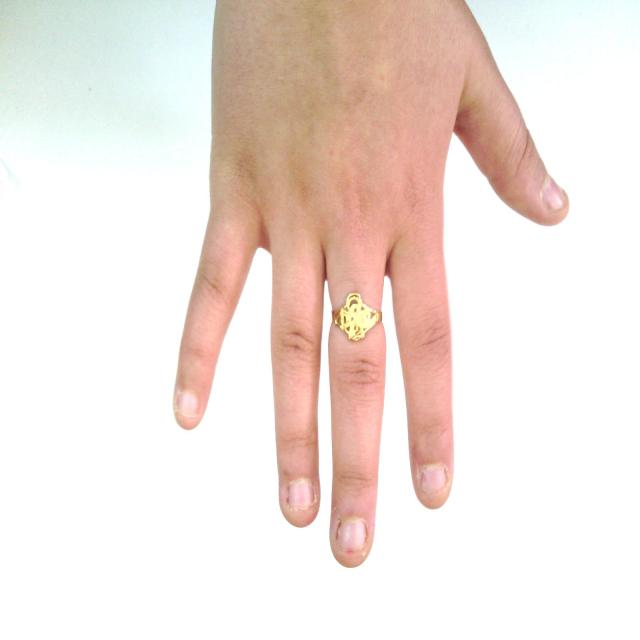hand: (169, 4, 572, 581)
